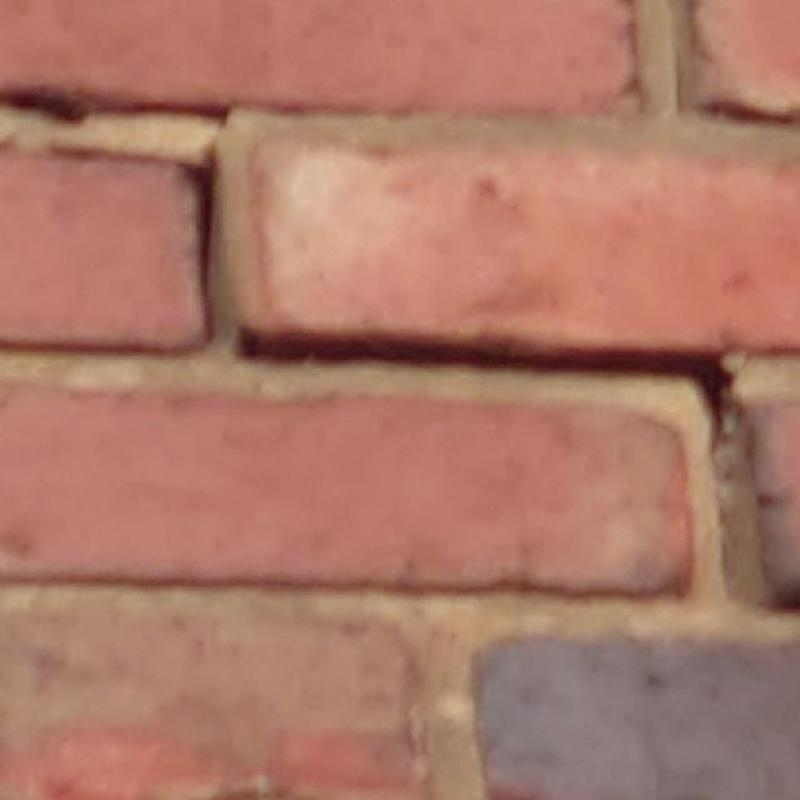pothole: (238, 336, 732, 456), (188, 166, 218, 290)
